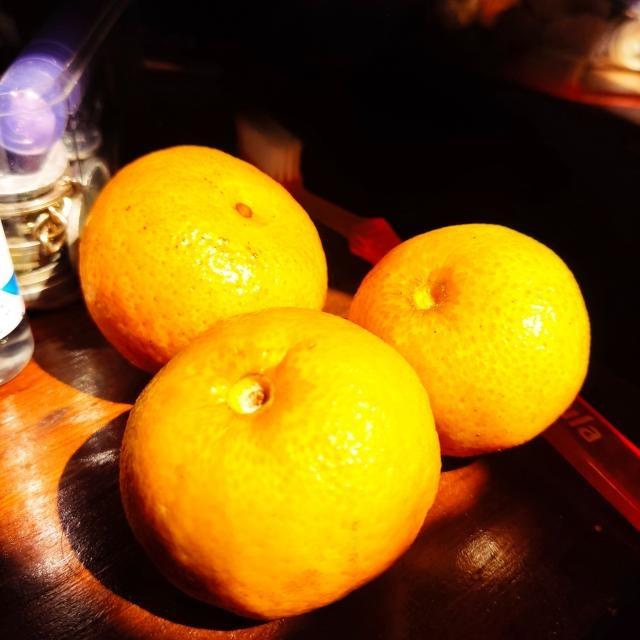agrume: (119, 304, 444, 620), (354, 221, 591, 459), (77, 138, 327, 353)
